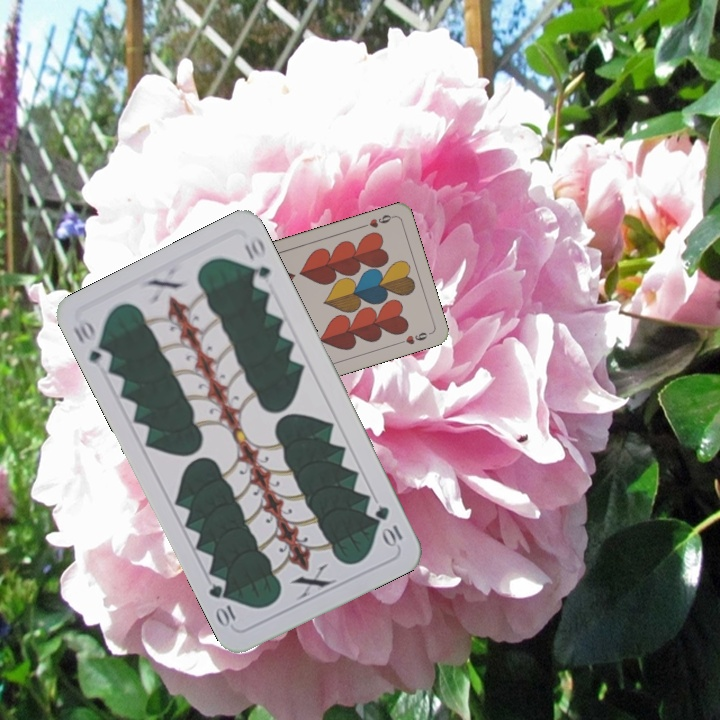G10: (69, 317, 115, 374), (371, 502, 406, 550)
H9: (357, 210, 396, 231)
